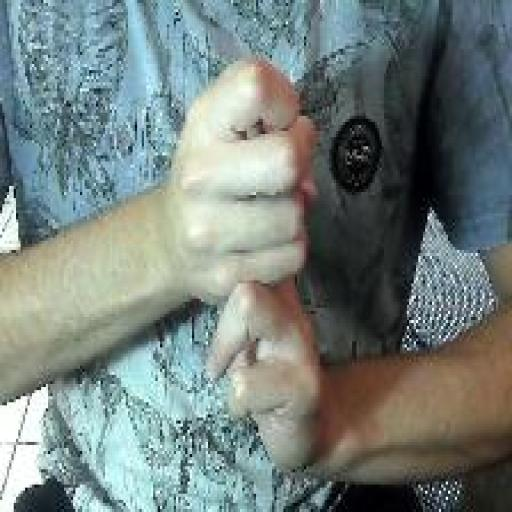Ne -rat-: (167, 50, 327, 483)
